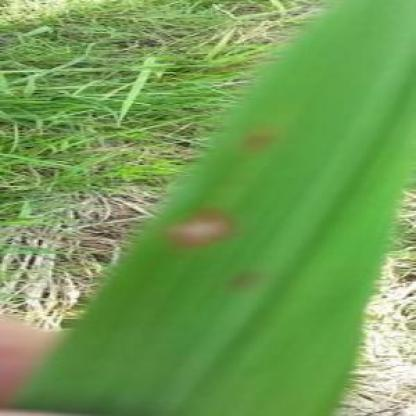Rice blast: (152, 206, 241, 259)
